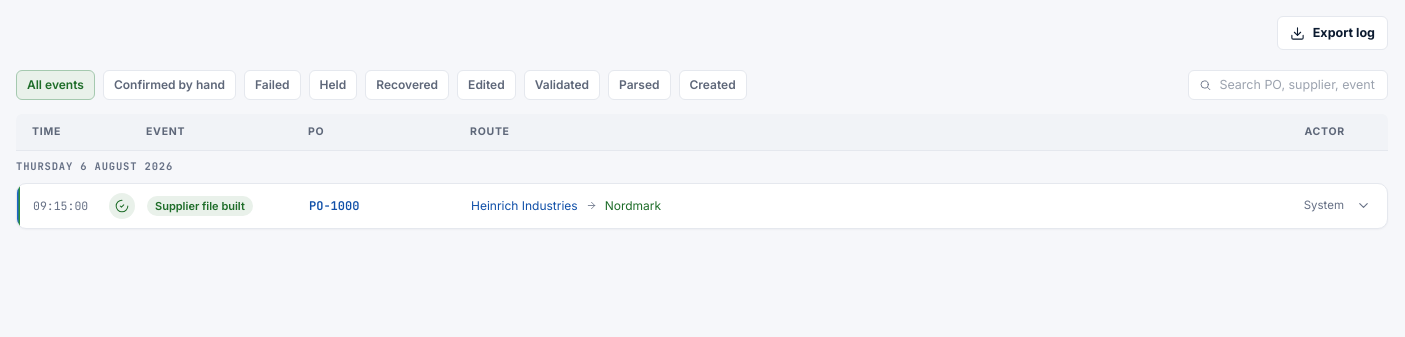
Scenario: expanded row — a success gains no remedy › renders no remedy block for a delivered event
Click the button "PO-1000" at (61, 205), box [17,184,1387,228]
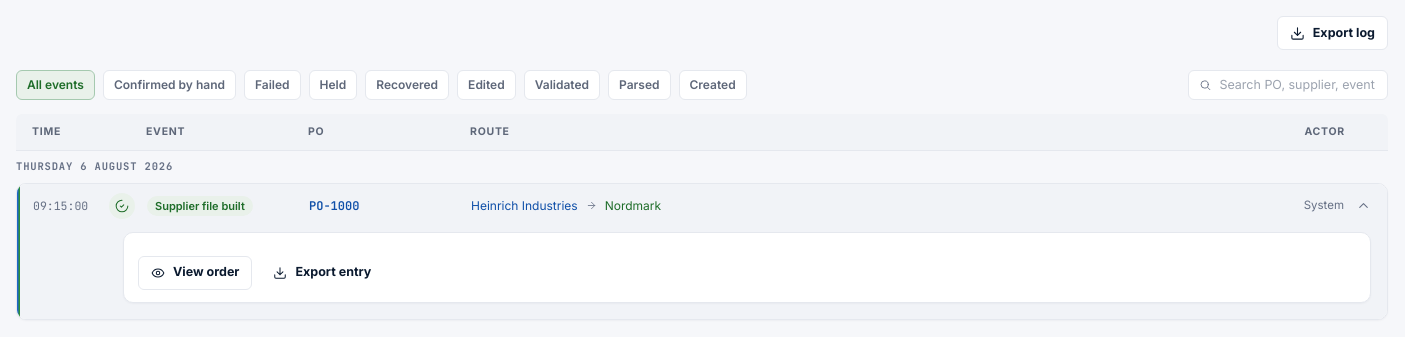
Expected: the button "View order" is shown, [138,256,252,290]
